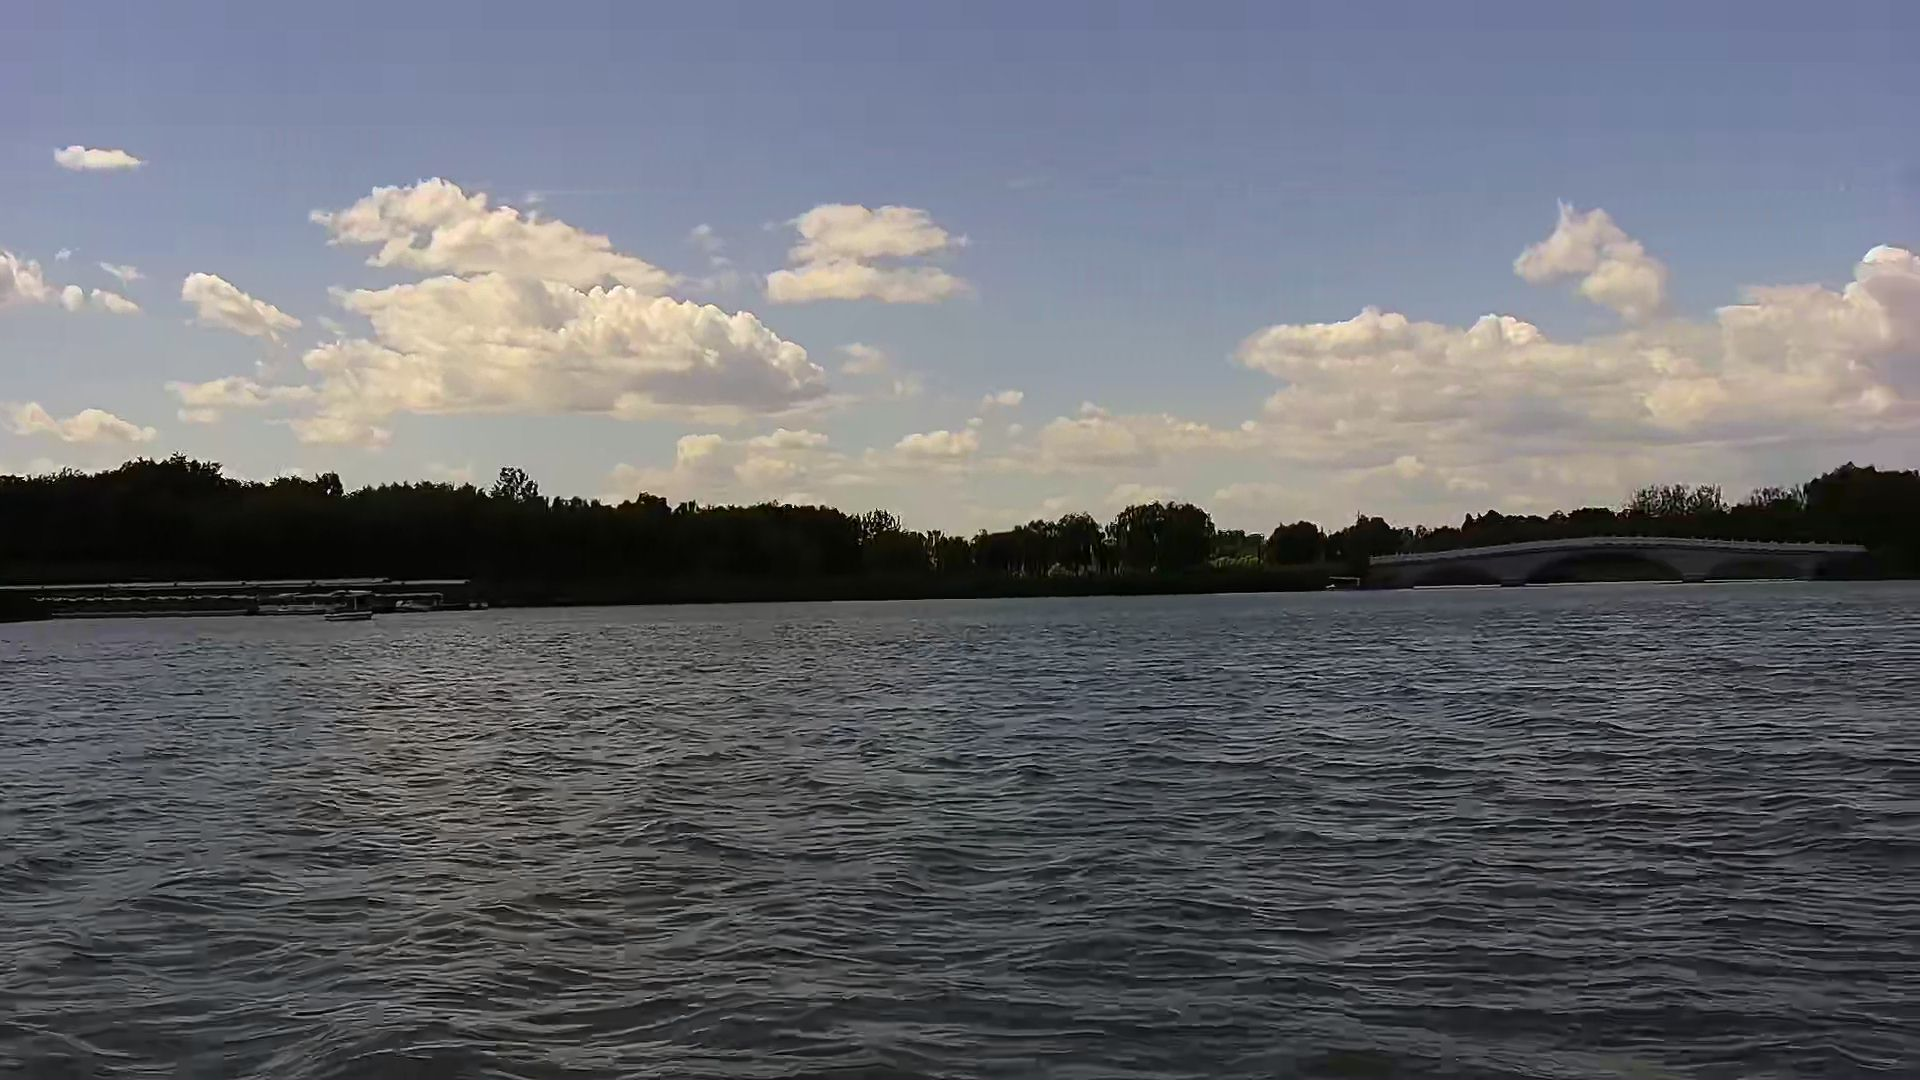boat: (316, 603, 384, 626)
bridge: (1365, 531, 1873, 585)
harbor: (11, 572, 488, 625)
